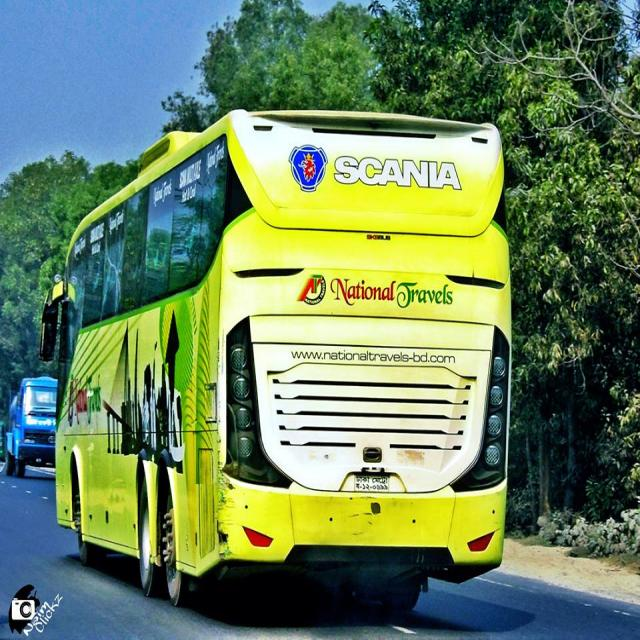bus: (37, 106, 514, 620)
